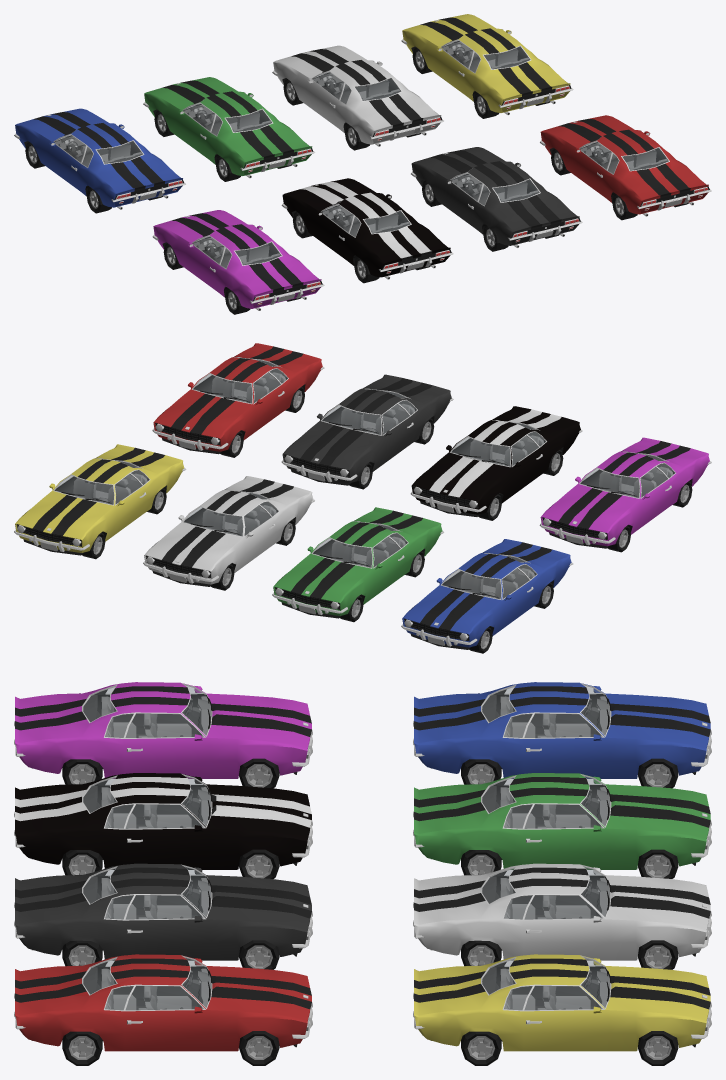
The model's file is Muscle_Car_Low_Poly.glb.
3 views of the same model, one above another, from view 1: azimuth 30°, elevation 25°; view 2: azimuth 150°, elevation 25°; view 3: azimuth 270°, elevation 25° (orthographic). The views are drawn at different scales.
Visible parts, largest first — view 1: Muscle_car_01_8_RGB_texture_0, Muscle_car_01_4_RGB_texture_0, Muscle_car_01_3_RGB_texture_0, Muscle_car_01_RGB_texture_0, Muscle_car_01_2_RGB_texture_0, Muscle_car_01_5_RGB_texture_0, Muscle_car_01_6_RGB_texture_0, Muscle_car_01_7_RGB_texture_0, Window_6_Window_0, Window_3_Window_0, Window_4_Window_0, Window_8_Window_0 (+4 smaller); view 2: Muscle_car_01_RGB_texture_0, Muscle_car_01_5_RGB_texture_0, Muscle_car_01_2_RGB_texture_0, Muscle_car_01_3_RGB_texture_0, Muscle_car_01_4_RGB_texture_0, Muscle_car_01_6_RGB_texture_0, Muscle_car_01_7_RGB_texture_0, Muscle_car_01_8_RGB_texture_0, Window_Window_0, Window_3_Window_0, Window_5_Window_0, Window_7_Window_0 (+4 smaller); view 3: Muscle_car_01_RGB_texture_0, Muscle_car_01_5_RGB_texture_0, Muscle_car_01_2_RGB_texture_0, Muscle_car_01_6_RGB_texture_0, Muscle_car_01_4_RGB_texture_0, Muscle_car_01_8_RGB_texture_0, Muscle_car_01_3_RGB_texture_0, Muscle_car_01_7_RGB_texture_0, Window_4_Window_0, Window_8_Window_0, Window_5_Window_0, Window_Window_0 (+20 smaller).
Boxes of the visible parts, x1,y1,x2,y2 form: Muscle_car_01_8_RGB_texture_0: (14, 108, 185, 209); Muscle_car_01_4_RGB_texture_0: (152, 210, 324, 310); Muscle_car_01_3_RGB_texture_0: (281, 178, 453, 279); Muscle_car_01_RGB_texture_0: (540, 115, 711, 216); Muscle_car_01_2_RGB_texture_0: (411, 147, 582, 247); Muscle_car_01_5_RGB_texture_0: (401, 14, 573, 115); Muscle_car_01_6_RGB_texture_0: (272, 45, 443, 146); Muscle_car_01_7_RGB_texture_0: (143, 77, 315, 178); Window_6_Window_0: (313, 72, 400, 103); Window_3_Window_0: (322, 205, 409, 236); Window_4_Window_0: (193, 236, 280, 267); Window_8_Window_0: (55, 135, 142, 166); Muscle_car_01_RGB_texture_0: (152, 343, 324, 454); Muscle_car_01_5_RGB_texture_0: (14, 444, 185, 555); Muscle_car_01_2_RGB_texture_0: (281, 374, 453, 485); Muscle_car_01_3_RGB_texture_0: (410, 406, 582, 516); Muscle_car_01_4_RGB_texture_0: (539, 437, 711, 548); Muscle_car_01_6_RGB_texture_0: (143, 476, 314, 586); Muscle_car_01_7_RGB_texture_0: (272, 507, 444, 618); Muscle_car_01_8_RGB_texture_0: (401, 539, 573, 649); Window_Window_0: (194, 360, 286, 403); Window_3_Window_0: (452, 423, 544, 466); Window_5_Window_0: (55, 461, 148, 504); Window_7_Window_0: (313, 524, 406, 567); Muscle_car_01_RGB_texture_0: (14, 954, 312, 1051); Muscle_car_01_5_RGB_texture_0: (413, 954, 711, 1051); Muscle_car_01_2_RGB_texture_0: (14, 863, 312, 960); Muscle_car_01_6_RGB_texture_0: (413, 863, 711, 960); Muscle_car_01_4_RGB_texture_0: (14, 682, 312, 778); Muscle_car_01_8_RGB_texture_0: (413, 682, 711, 778); Muscle_car_01_3_RGB_texture_0: (14, 773, 312, 869); Muscle_car_01_7_RGB_texture_0: (413, 773, 711, 869); Window_4_Window_0: (83, 686, 210, 737); Window_8_Window_0: (482, 686, 609, 737); Window_5_Window_0: (482, 958, 609, 1009); Window_Window_0: (83, 958, 210, 1009).
Size of the model in its own units: 1250 by 138 by 1137.
Materials: 2 (1 with a texture image).
